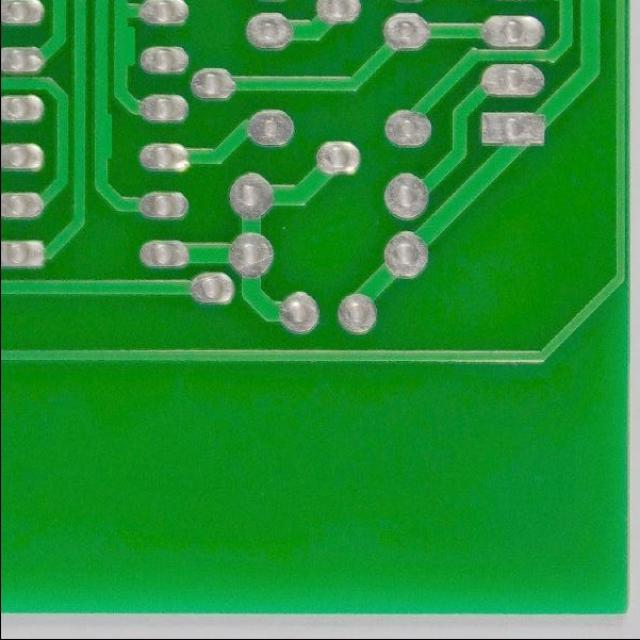spur: (110, 24, 140, 76), (90, 108, 118, 162)
